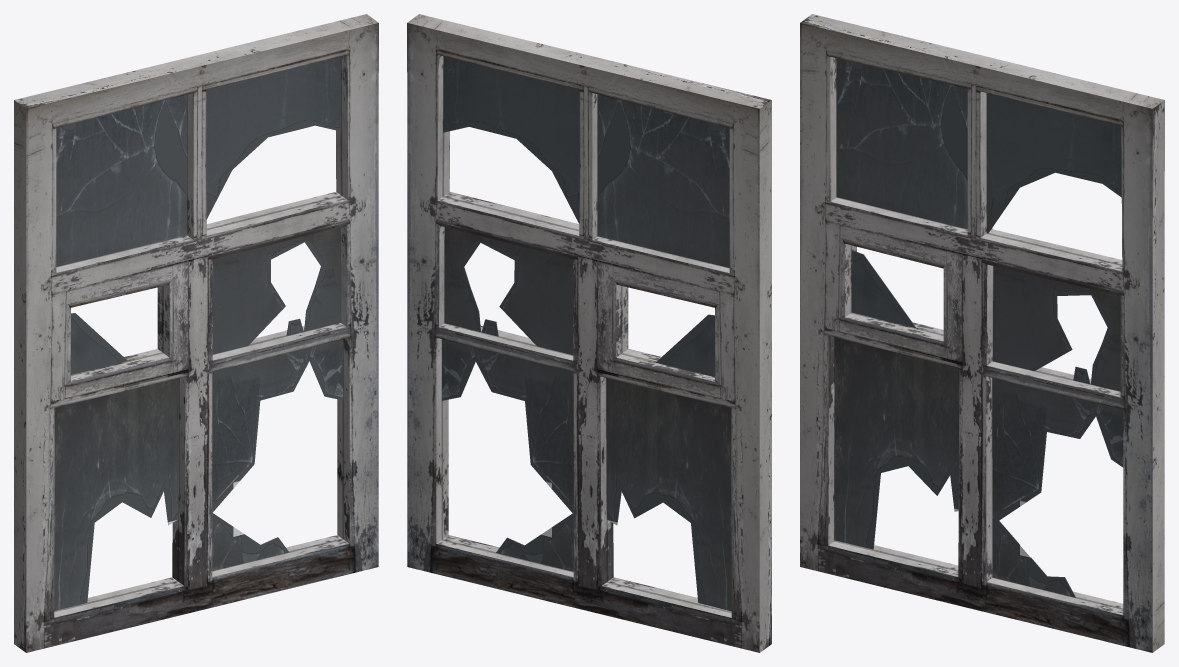
Rendered from Windows_05.fbx.
The picture shows the model from 3 angles, left to right: view 1: azimuth 30°, elevation 25°; view 2: azimuth 150°, elevation 25°; view 3: azimuth 330°, elevation 25°; orthographic projection.
Parts seen in each view (by area): view 1: Windows_05, Windows_05glass (×6); view 2: Windows_05, Windows_05glass (×6); view 3: Windows_05, Windows_05glass (×6).
Boxes of the visible parts, left/top/right/bottom form: Windows_05: left=14, top=14, right=378, bottom=652; Windows_05glass (×6): left=54, top=57, right=343, bottom=610; Windows_05: left=407, top=14, right=771, bottom=652; Windows_05glass (×6): left=442, top=56, right=731, bottom=611; Windows_05: left=800, top=14, right=1164, bottom=652; Windows_05glass (×6): left=834, top=58, right=1123, bottom=597.
Bounding box in the file's own units: 102 × 6.08 × 151.
Materials: 2 (2 with a texture image).
